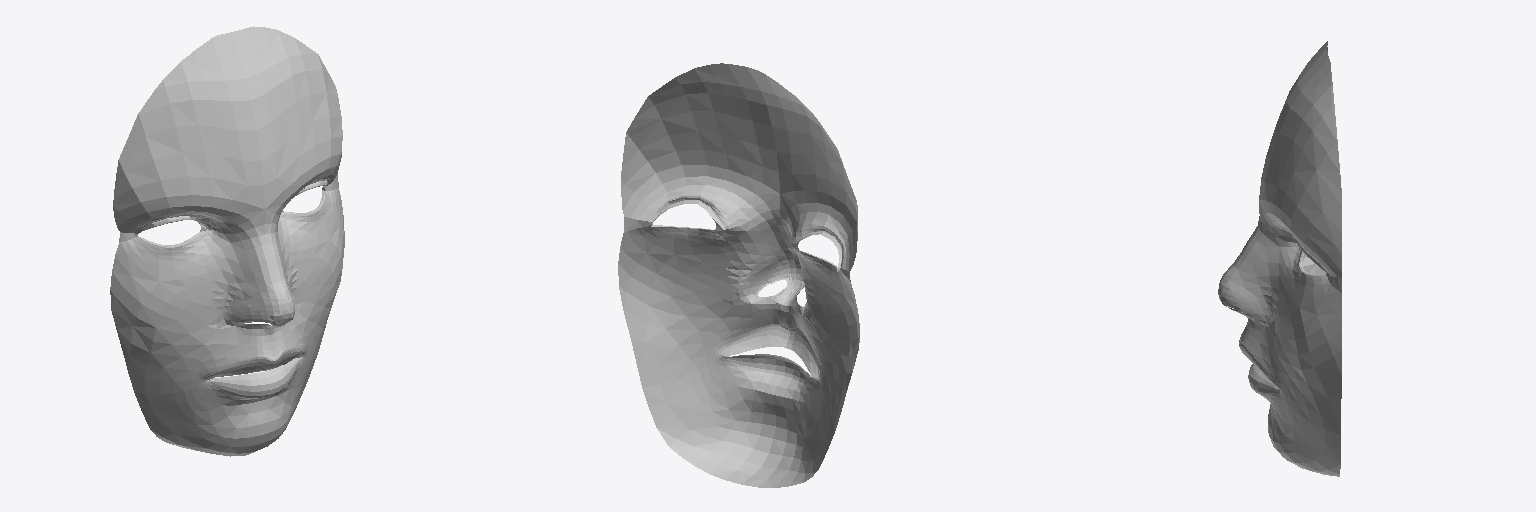
3 renders of one model, left to right at view 1: azimuth 30°, elevation 25°; view 2: azimuth 150°, elevation 25°; view 3: azimuth 270°, elevation 25°, orthographic.
Parts seen in each view (by area): view 1: Faith_face.001; view 2: Faith_face.001; view 3: Faith_face.001.
Boxes of the visible parts, box(x1,y1,x2,y2) form: Faith_face.001: box(110, 26, 344, 456); Faith_face.001: box(618, 63, 859, 487); Faith_face.001: box(1218, 41, 1341, 476).
Bounding box in the file's own units: 0.5402 × 0.8987 × 0.2439.